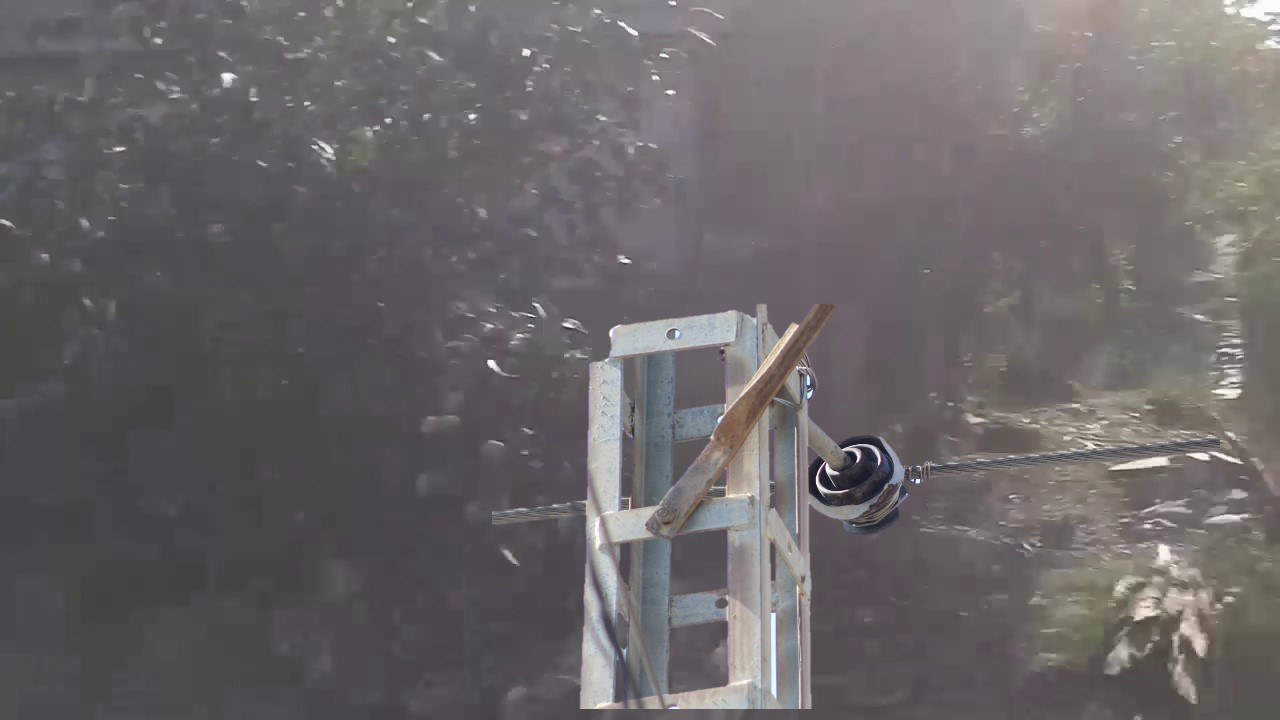defect_pin: (806, 429, 914, 540)
